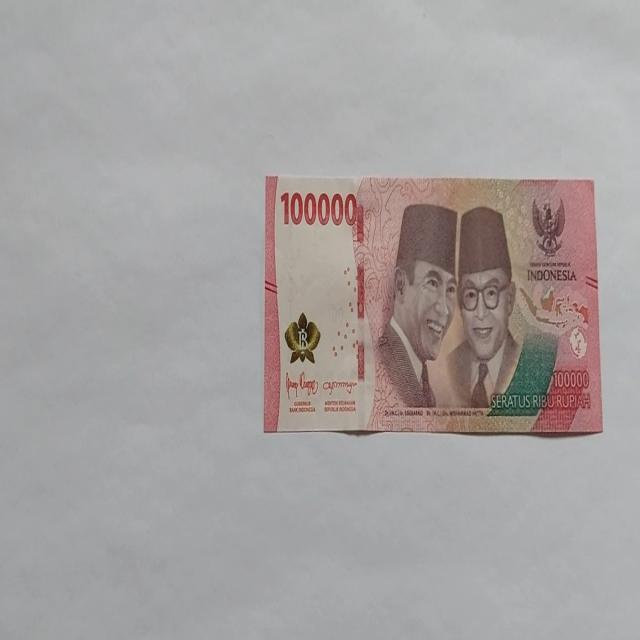seratus ribu rupiah: (264, 174, 602, 436), (376, 202, 458, 414)
